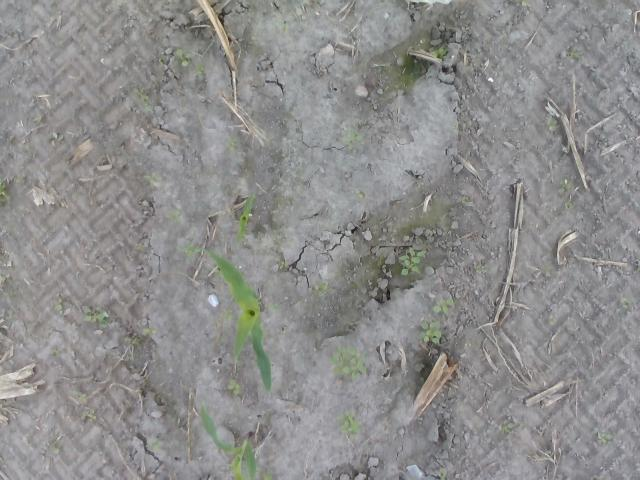Maize: (185, 245, 272, 395), (198, 406, 260, 480), (237, 193, 260, 244)
Weeds: (333, 345, 367, 383), (159, 50, 202, 78), (336, 412, 364, 439), (400, 248, 424, 276), (125, 326, 158, 346), (83, 306, 109, 328), (419, 322, 441, 344), (559, 178, 573, 210), (68, 388, 88, 409), (342, 131, 364, 150), (132, 89, 152, 109), (432, 298, 454, 316), (621, 296, 639, 311), (0, 178, 9, 208), (54, 299, 74, 312), (428, 47, 448, 59), (597, 432, 614, 446), (315, 282, 327, 301), (146, 439, 163, 452), (166, 208, 181, 222), (506, 420, 520, 434), (49, 442, 61, 457), (548, 120, 560, 134), (226, 136, 238, 150), (144, 173, 158, 184), (278, 20, 290, 32), (474, 264, 486, 275), (86, 408, 95, 422), (566, 49, 580, 58), (518, 1, 532, 10), (437, 470, 447, 479), (548, 315, 556, 324), (356, 190, 364, 198), (270, 302, 278, 310)
